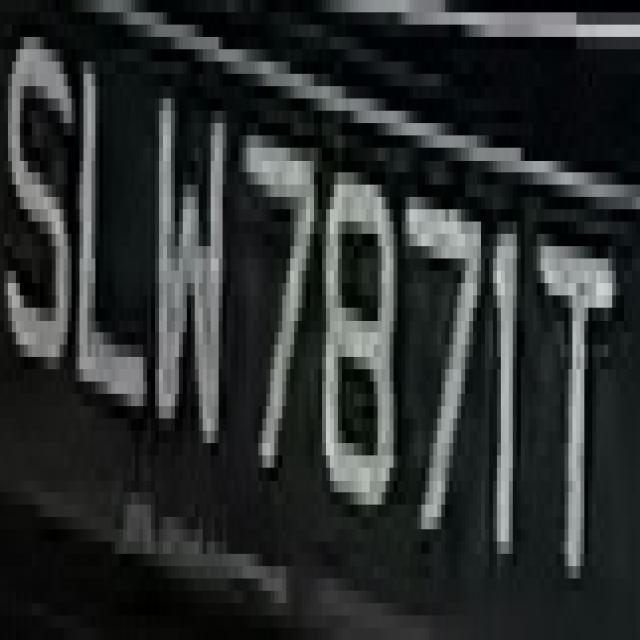1: (481, 185, 525, 603)
7: (394, 136, 481, 578), (231, 61, 310, 517)
8: (298, 136, 406, 566)
L: (76, 37, 147, 455)
S: (8, 12, 75, 406)
T: (521, 184, 624, 616)
W: (147, 49, 231, 456)
